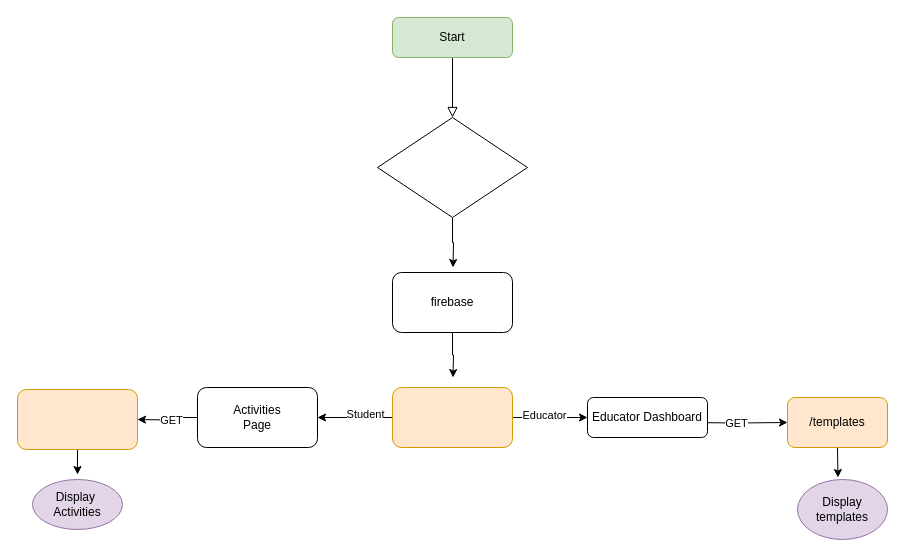
Some shapes in this 905 by 557 pixel diagram are drawn without their labels. The centre of each missing label's shape, as x and y in pixels:
"/activities" belongs at (x=77, y=419).
"Authenticate" belongs at (x=452, y=167).
"backend/verification" belongs at (x=452, y=417).
